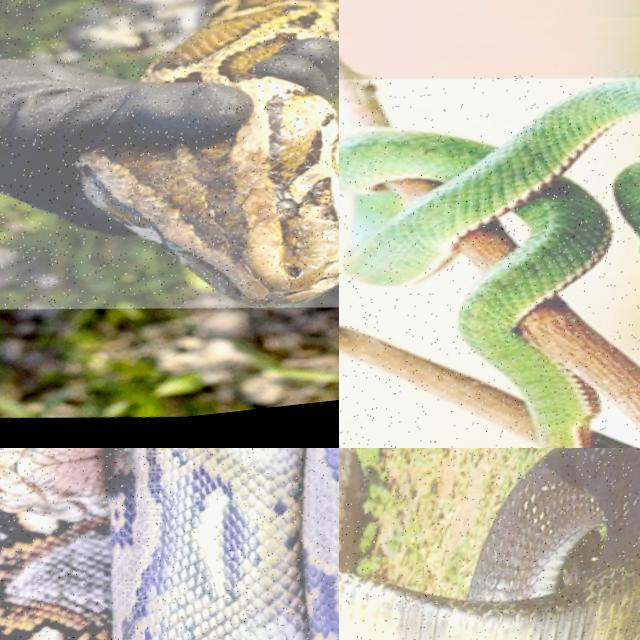Malayopython reticulatus: (0, 448, 338, 639)
Ophiophagus hannah: (339, 448, 639, 639)
Python bivittatus: (79, 0, 338, 307)
Trimeresurus: (339, 74, 639, 447)
snake: (339, 74, 639, 447), (79, 0, 338, 307), (0, 448, 338, 639), (339, 448, 639, 639)
